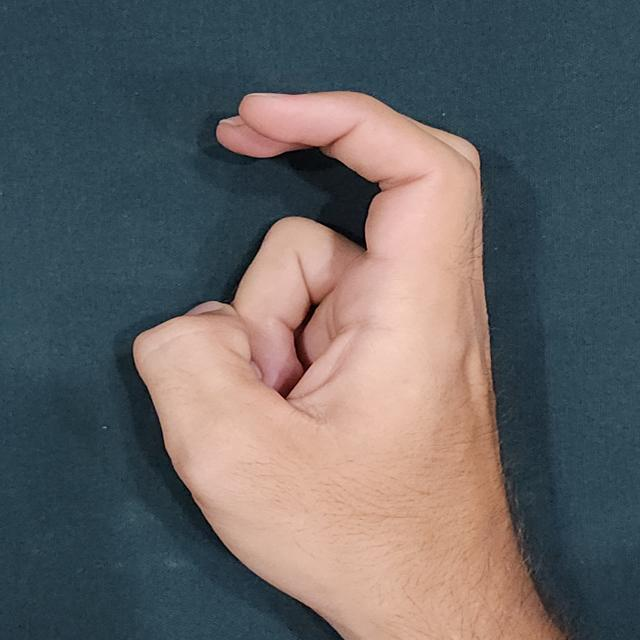ا: (117, 89, 582, 638)
